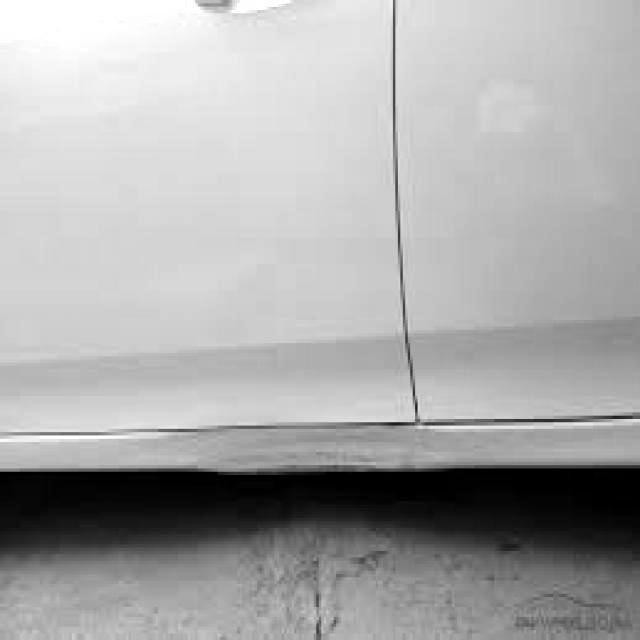Runningboard-Damage: (154, 419, 443, 465)
